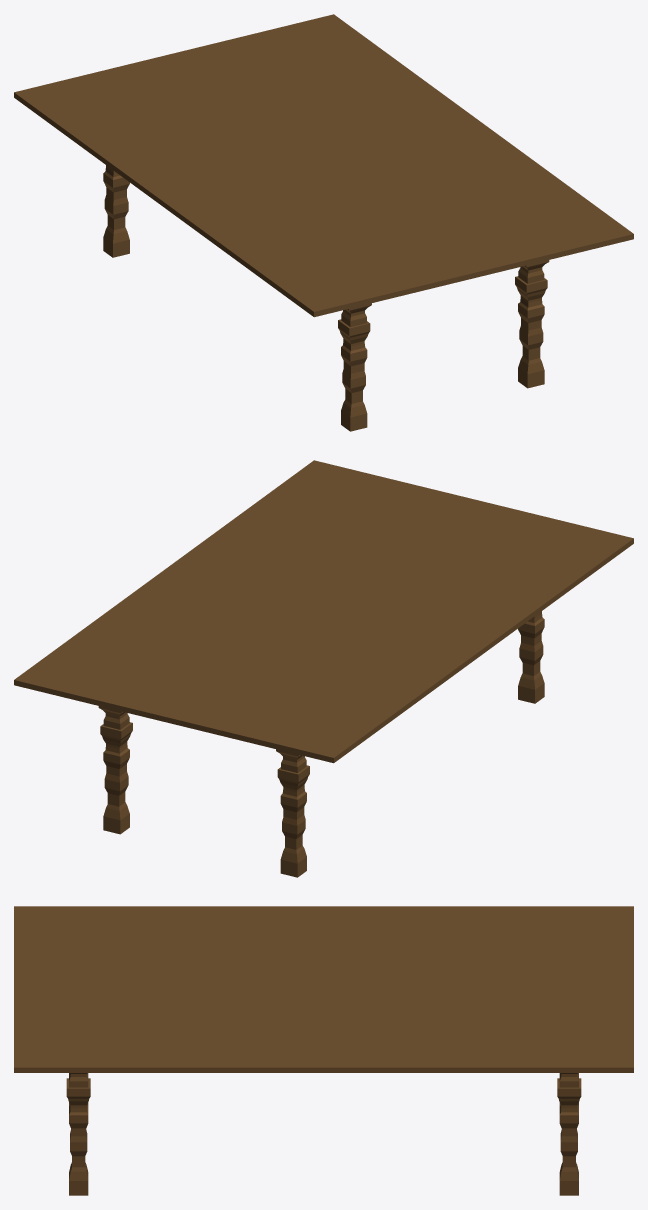
File: table.fbx
3 views of the same model, one above another, from view 1: azimuth 30°, elevation 25°; view 2: azimuth 150°, elevation 25°; view 3: azimuth 270°, elevation 25° (orthographic). The views are drawn at different scales.
Visible parts, largest first — view 1: Tisch; view 2: Tisch; view 3: Tisch.
Part boxes in pixels (x1=…): Tisch: x1=14, y1=14, x2=633, y2=431; Tisch: x1=14, y1=460, x2=633, y2=877; Tisch: x1=14, y1=906, x2=633, y2=1195.
Bounding box in the file's own units: 123 × 56.81 × 200.
